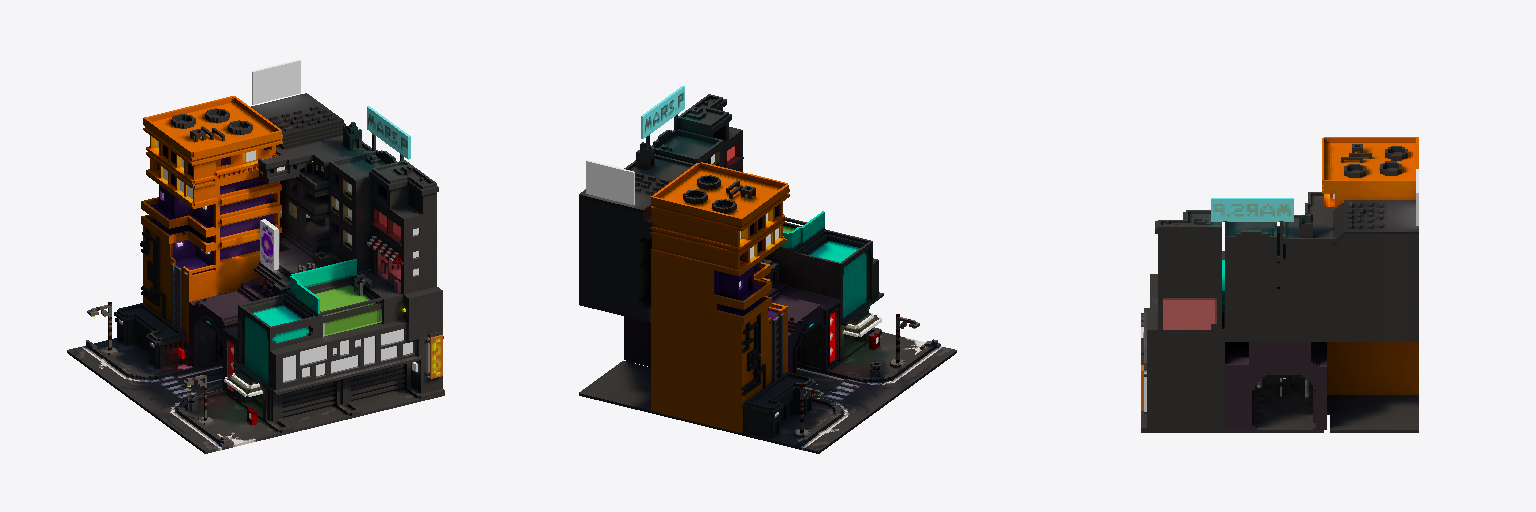
The picture shows the model from 3 angles: view 1: azimuth 30°, elevation 25°; view 2: azimuth 150°, elevation 25°; view 3: azimuth 270°, elevation 25°; orthographic projection.
Parts seen in each view (by area): view 1: building; view 2: building; view 3: building.
Part boxes in pixels (left/top/right/bottom): building: left=67, top=60, right=444, bottom=453; building: left=579, top=86, right=956, bottom=453; building: left=1141, top=137, right=1418, bottom=432.
Size of the model in its own units: 100 by 94 by 100.
1 materials, 1 textured.